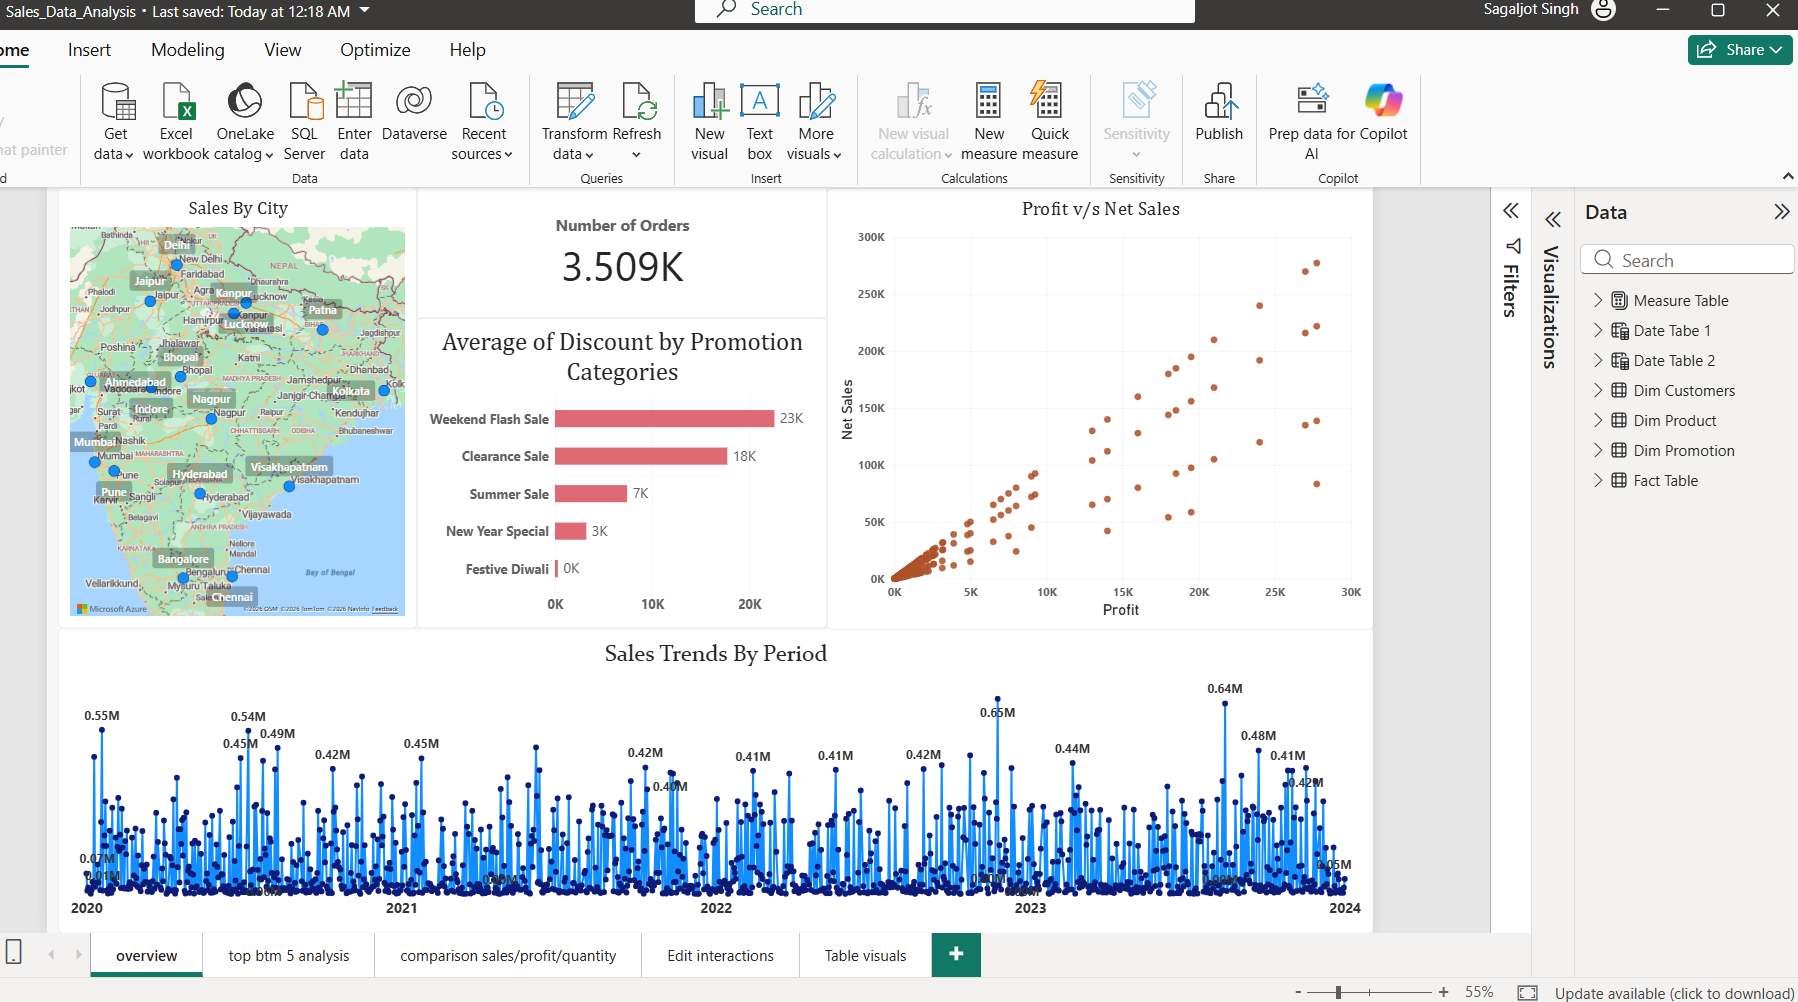

The dashboard page shown, as its layout file describes it:
{"tool":"powerbi","page":{"name":"overview","canvas":[1920,1080],"ordinal":0},"visuals":[{"type":"lineChart","title":"Sales Trends By Period","fields":{"Category":["Fact Table.Date (dd/mm/yyyy).Variation.Date Hierarchy.Year"],"Y":["Sum(Fact Table.Net Sales)"]},"box":[16.3,638.8,1903.8,441.6],"z":0},{"type":"scatterChart","title":"Profit v/s Net Sales","fields":{"X":["Fact Table.Profit"],"Y":["Fact Table.Net Sales"]},"box":[1129.2,1,790.8,638.8],"z":1000},{"type":"barChart","title":"Average of Discount by Promotion Categories","fields":{"Category":["Dim Promotion.Promotion Name"],"Y":["Avg(Fact Table.Discount)"]},"box":[535.7,190,593.6,448.8],"z":2000},{"type":"azureMap","title":"Sales By City","fields":{"Category":["Dim Customers.City"]},"box":[16.3,0,519.4,638.8],"z":3000},{"type":"cardVisual","fields":{"Data":["Count(Fact Table.Order ID)"]},"box":[535.7,0,593.6,190],"z":4000}]}

Visuals, with their boxes on the page's 1920x1080 design canvas (x1, y1, x2, y2). These are canvas units, not pixel positions in the 1798x1002 screenshot, which may show the page scaled, cropped or inside an application window:
"Sales Trends By Period" lineChart: {"left": 16, "top": 639, "right": 1920, "bottom": 1080}
"Profit v/s Net Sales" scatterChart: {"left": 1129, "top": 1, "right": 1920, "bottom": 640}
"Average of Discount by Promotion Categories" barChart: {"left": 536, "top": 190, "right": 1129, "bottom": 639}
"Sales By City" azureMap: {"left": 16, "top": 0, "right": 536, "bottom": 639}
cardVisual - Count(Fact Table.Order ID): {"left": 536, "top": 0, "right": 1129, "bottom": 190}
